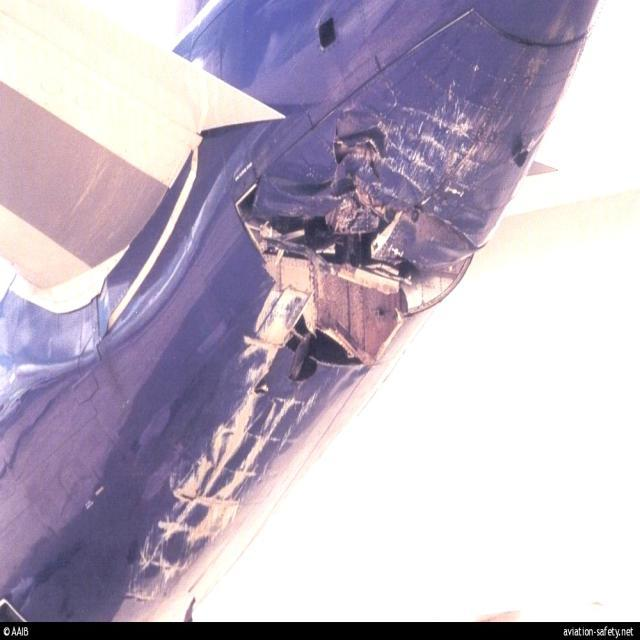crack: (229, 130, 424, 382)
